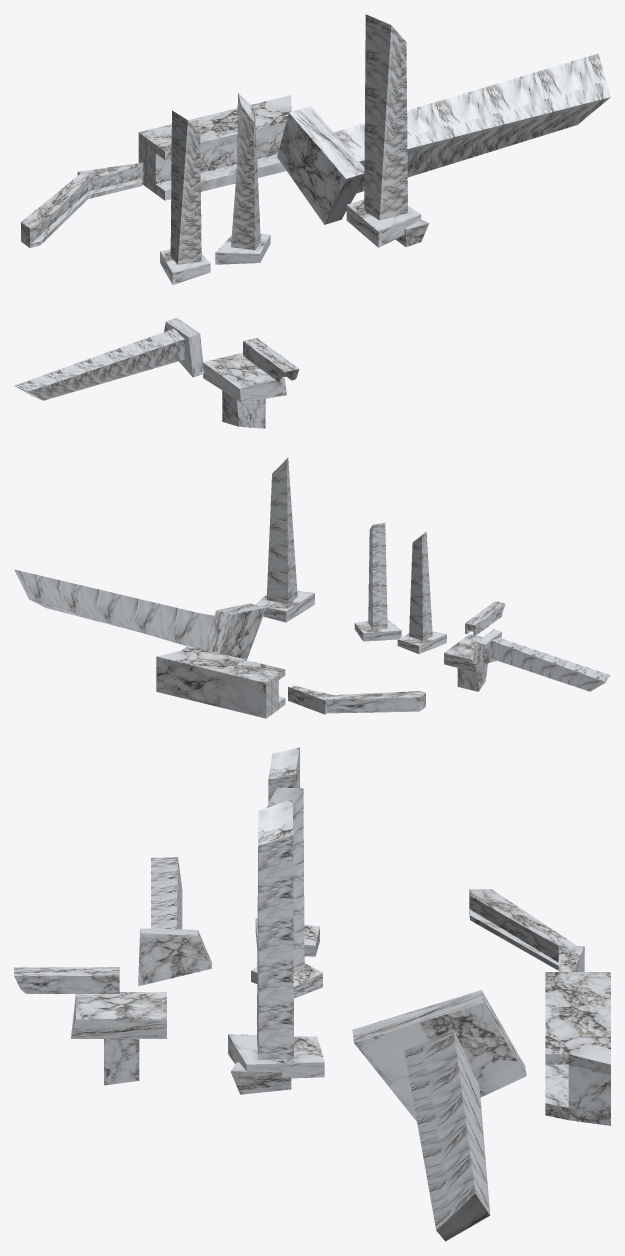
Rendered from SHIKAKU_Stage_2.obj.
3 renders of one model, top to bottom at view 1: azimuth 30°, elevation 25°; view 2: azimuth 150°, elevation 25°; view 3: azimuth 270°, elevation 25°, orthographic. The views are drawn at different scales.
Visible parts, largest first — view 1: Phase_2.005_Cube.035, Phase_2.006_Cube.034, Cube_Cube.018, Phase_2.001_Cube.008, Phase_2.002_Cube.014, Phase_2.003_Cube.033, Phase_2_Cube.004, Cube.004_Cube.023, Cube.003_Cube.022, Cube.002_Cube.021; view 2: Phase_2.005_Cube.035, Cube_Cube.018, Phase_2.006_Cube.034, Phase_2.001_Cube.008, Phase_2.002_Cube.014, Phase_2.003_Cube.033, Cube.004_Cube.023, Phase_2_Cube.004, Cube.003_Cube.022, Cube.002_Cube.021; view 3: Phase_2.005_Cube.035, Phase_2.006_Cube.034, Cube_Cube.018, Phase_2_Cube.004, Phase_2.001_Cube.008, Cube.004_Cube.023, Phase_2.003_Cube.033, Cube.002_Cube.021, Phase_2.002_Cube.014, Cube.001_Cube.019, Cube.003_Cube.022.
Boxes of the visible parts, left/top/right/bottom form: Phase_2.005_Cube.035: left=277, top=53, right=610, bottom=224; Phase_2.006_Cube.034: left=346, top=14, right=421, bottom=247; Cube_Cube.018: left=138, top=95, right=291, bottom=200; Phase_2.001_Cube.008: left=14, top=318, right=204, bottom=400; Phase_2.002_Cube.014: left=160, top=110, right=210, bottom=284; Phase_2.003_Cube.033: left=215, top=93, right=270, bottom=264; Phase_2_Cube.004: left=203, top=352, right=286, bottom=428; Cube.004_Cube.023: left=21, top=172, right=92, bottom=248; Cube.003_Cube.022: left=77, top=162, right=143, bottom=198; Cube.002_Cube.021: left=243, top=338, right=299, bottom=383; Phase_2.005_Cube.035: left=14, top=569, right=266, bottom=659; Cube_Cube.018: left=156, top=646, right=285, bottom=718; Phase_2.006_Cube.034: left=255, top=457, right=314, bottom=622; Phase_2.001_Cube.008: left=471, top=629, right=610, bottom=691; Phase_2.002_Cube.014: left=397, top=531, right=446, bottom=653; Phase_2.003_Cube.033: left=354, top=522, right=401, bottom=641; Cube.004_Cube.023: left=323, top=691, right=425, bottom=713; Phase_2_Cube.004: left=444, top=634, right=487, bottom=691; Cube.003_Cube.022: left=288, top=685, right=332, bottom=714; Cube.002_Cube.021: left=465, top=601, right=505, bottom=635; Phase_2.005_Cube.035: left=352, top=990, right=526, bottom=1241; Phase_2.006_Cube.034: left=228, top=799, right=324, bottom=1079; Cube_Cube.018: left=545, top=972, right=610, bottom=1125; Phase_2_Cube.004: left=71, top=992, right=166, bottom=1085; Phase_2.001_Cube.008: left=138, top=857, right=211, bottom=986; Cube.004_Cube.023: left=469, top=889, right=581, bottom=970; Phase_2.003_Cube.033: left=251, top=787, right=322, bottom=998; Cube.002_Cube.021: left=14, top=967, right=119, bottom=993; Phase_2.002_Cube.014: left=255, top=747, right=319, bottom=956; Cube.001_Cube.019: left=230, top=1062, right=291, bottom=1094; Cube.003_Cube.022: left=558, top=946, right=584, bottom=971.
Size of the model in its own units: 394 by 169 by 232.
Materials: 11 (11 with a texture image).
